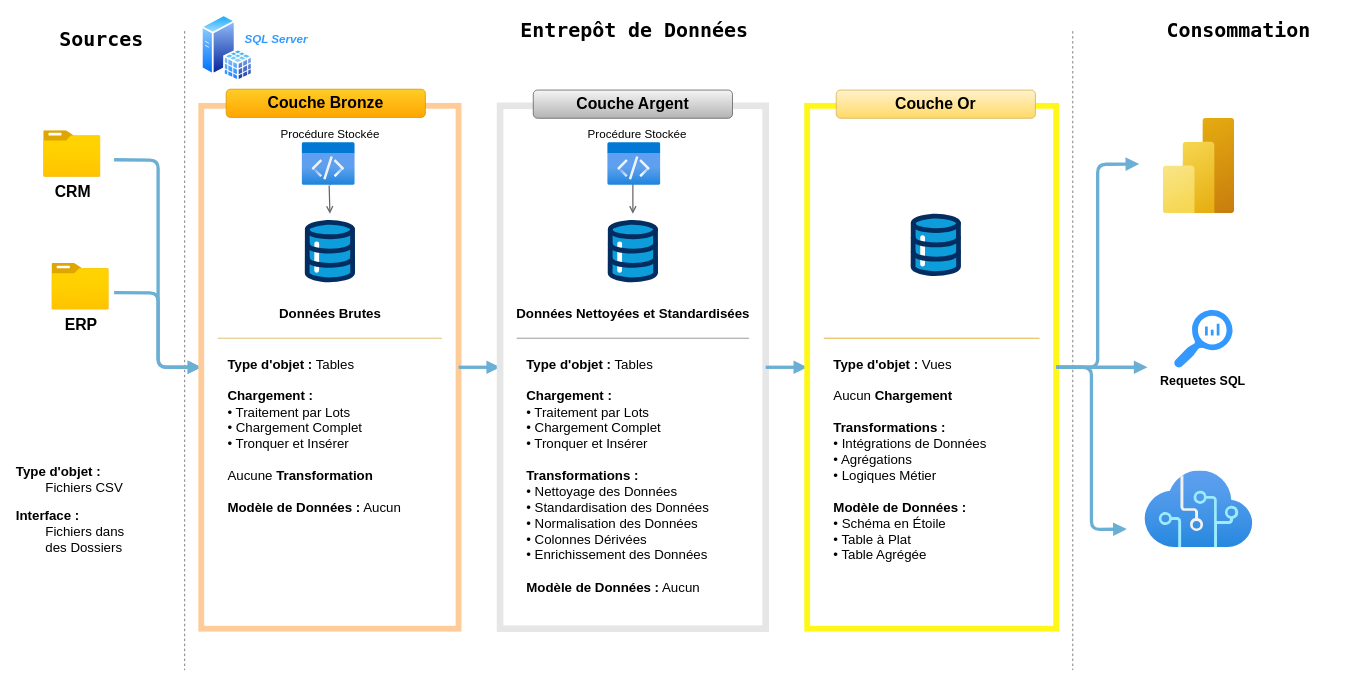
This 1369x686 diagram has some shape labels left out. Each missing label, with the centre of its shape:
Apprentissage Automatique: point (1198, 509)
BI & Reporting: point (1198, 165)
Données Prêtes pour les Métiers: point (935, 244)
